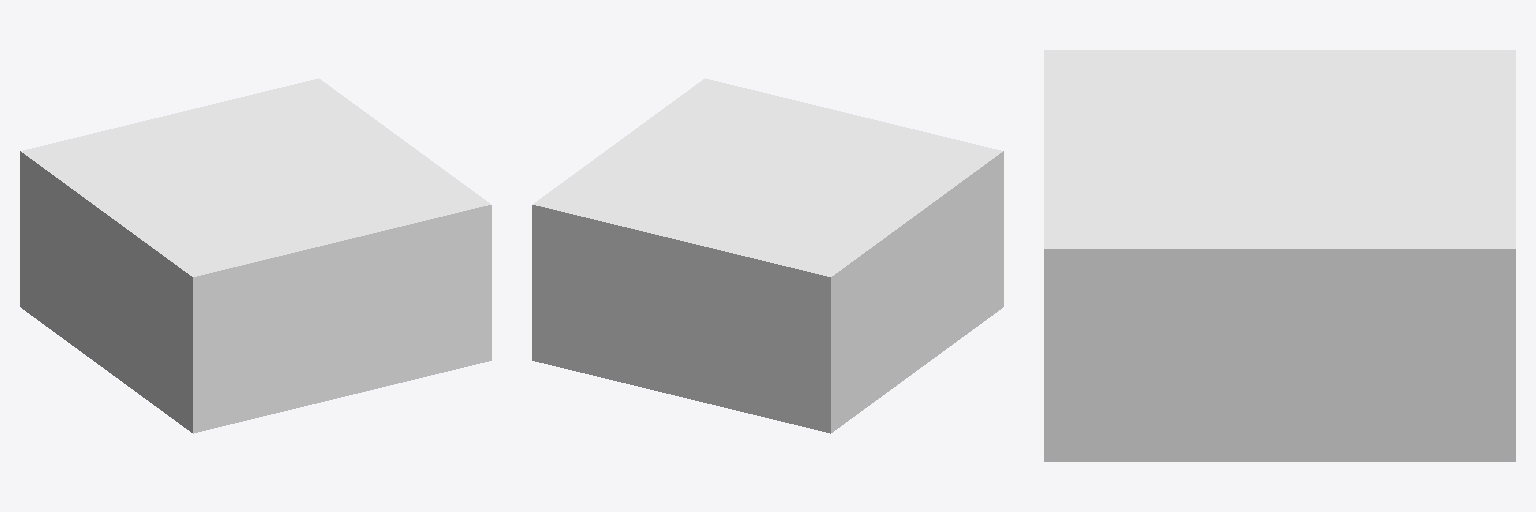
robot.urdf — quadcopter:
<robot name="quadcopter">
  <link name="base_link">
    <visual>
      <origin xyz="0 0 0" rpy="0 0 0" />
      <geometry>
        <!--<mesh filename="package://tp-rrt/meshes/scene.stl"/>-->
        <box size="0.1 0.1 0.05" />
      </geometry>
      <material name="white">
        <color rgba="1 1 1 1"/>
      </material>
    </visual>
    <collision>
      <origin xyz="0 0 0" rpy="0 0 0" />
      <geometry>
        <box size="0.1 0.1 0.05" />
        <!--<mesh filename="package://tp-rrt/meshes/scene.stl"/>-->
      </geometry>
    </collision>
  </link>
</robot>

--- What the picture shows (computed from the rendered views, not written in the file) ---
Views: 3 orthographic renders of the robot side by side, from view 1: azimuth 30°, elevation 25°; view 2: azimuth 150°, elevation 25°; view 3: azimuth 270°, elevation 25°.
Model quadcopter with 1 links and 0 joints (none), rooted at base_link, posed all joints at 0.
Links seen in each view (by area): view 1: base_link; view 2: base_link; view 3: base_link.
Boxes of the visible links, box(x1,y1,x2,y2) form: base_link: box(20, 78, 491, 433); base_link: box(532, 78, 1003, 433); base_link: box(1044, 50, 1515, 461).
Bounding box of the posed robot: 0.1 × 0.1 × 0.05 m (x, y, z).
Geometry: primitives only (box / cylinder / sphere), no mesh files.